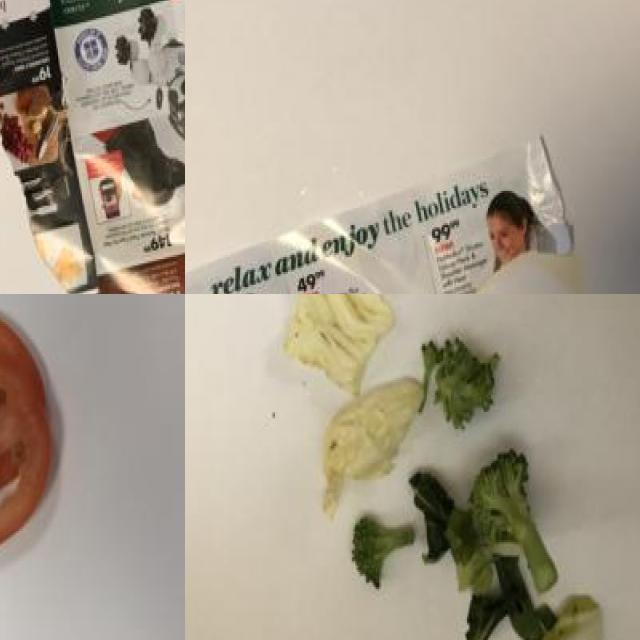compost: (265, 294, 621, 640), (0, 294, 76, 566)
paper: (185, 146, 571, 294), (0, 0, 185, 294)
